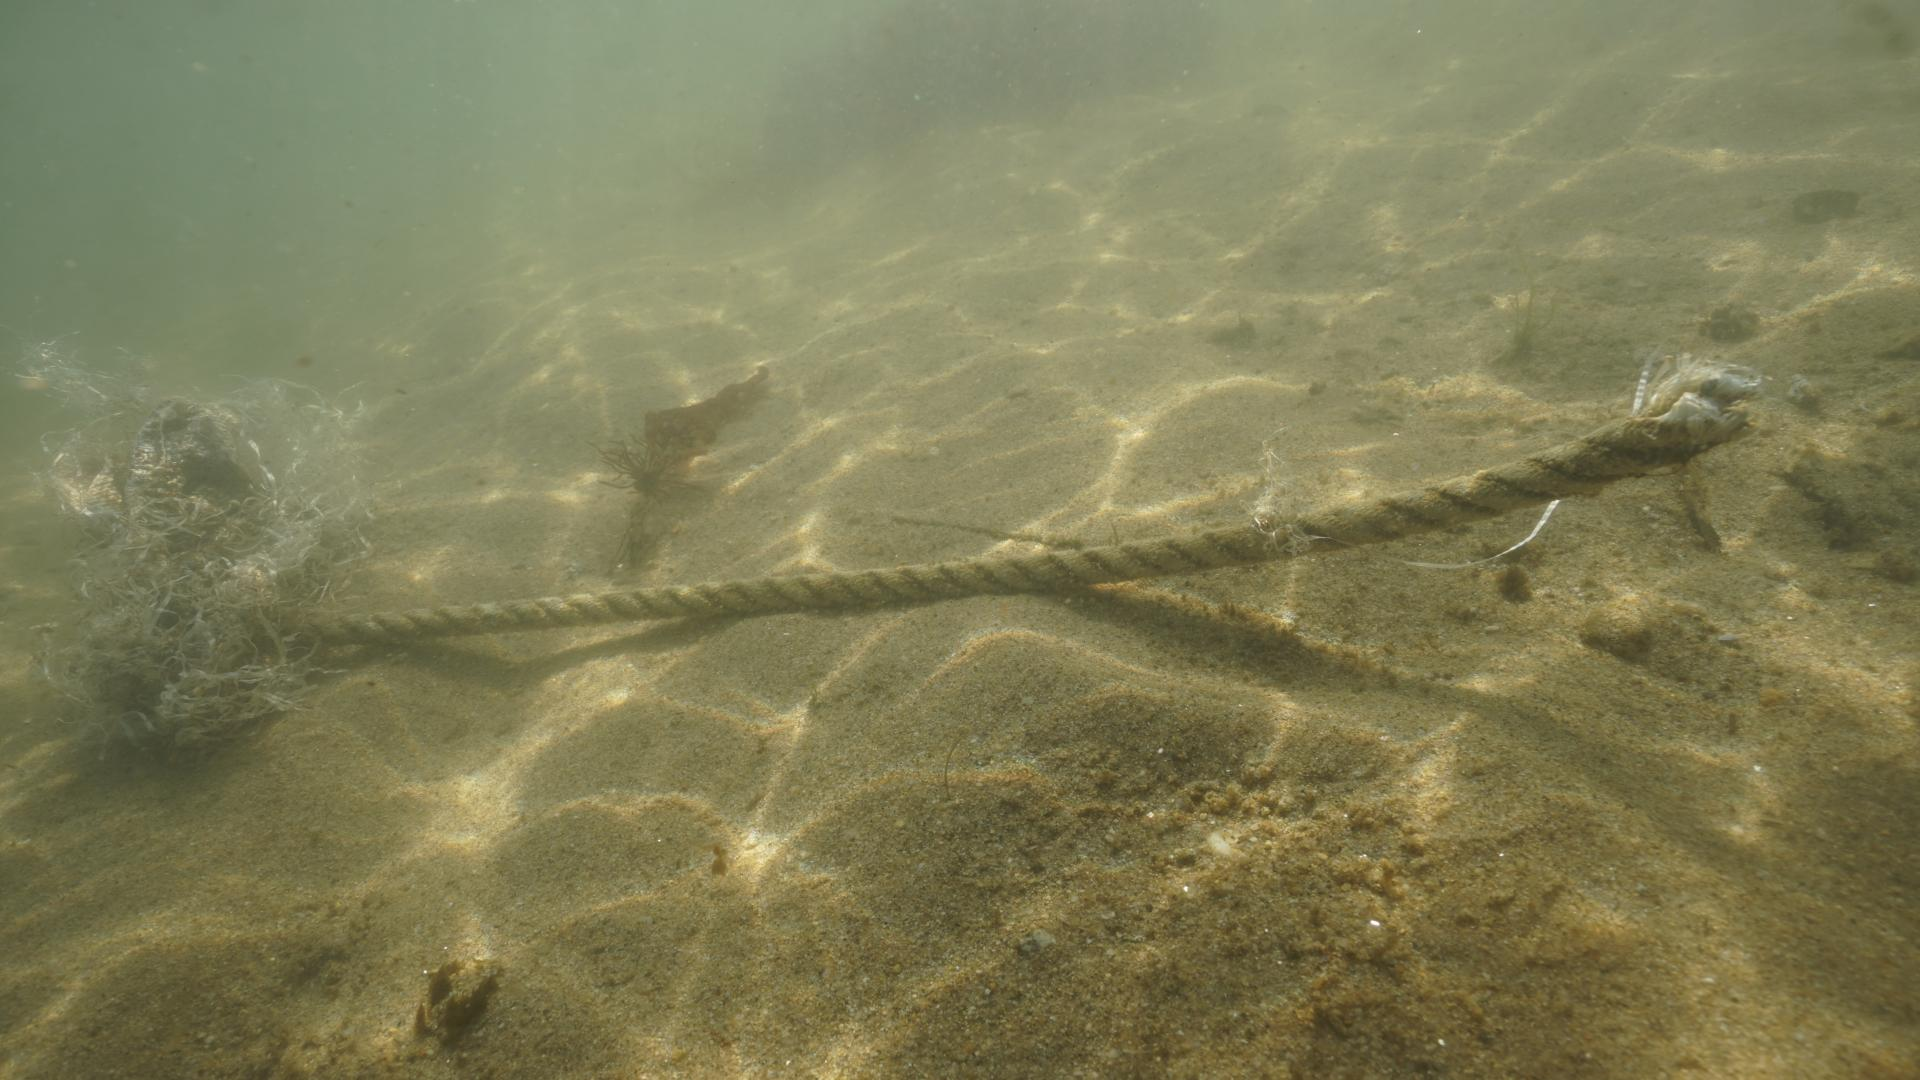rope: (261, 397, 1738, 647)
